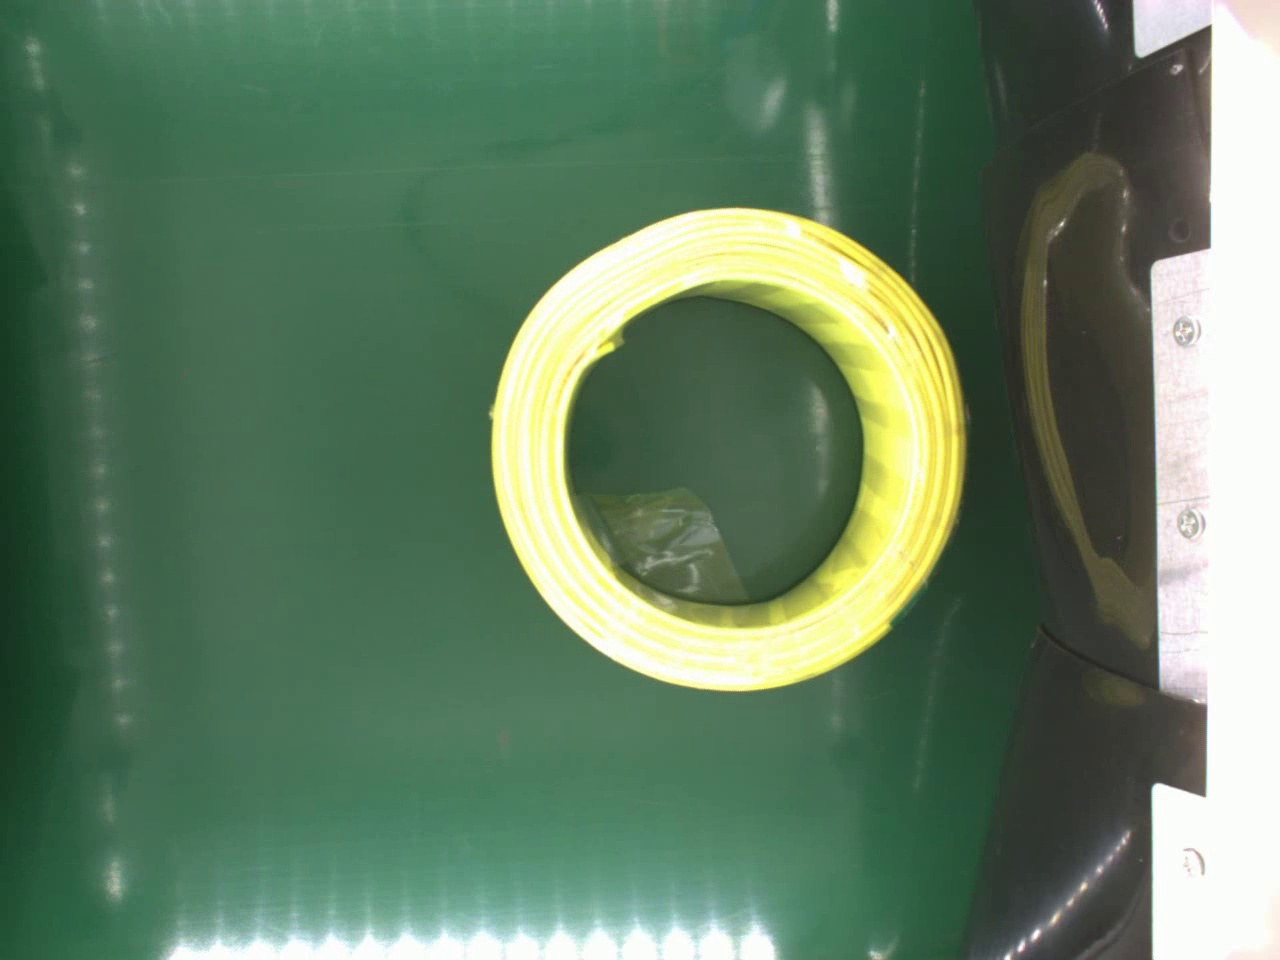yellow: (478, 201, 972, 698)
